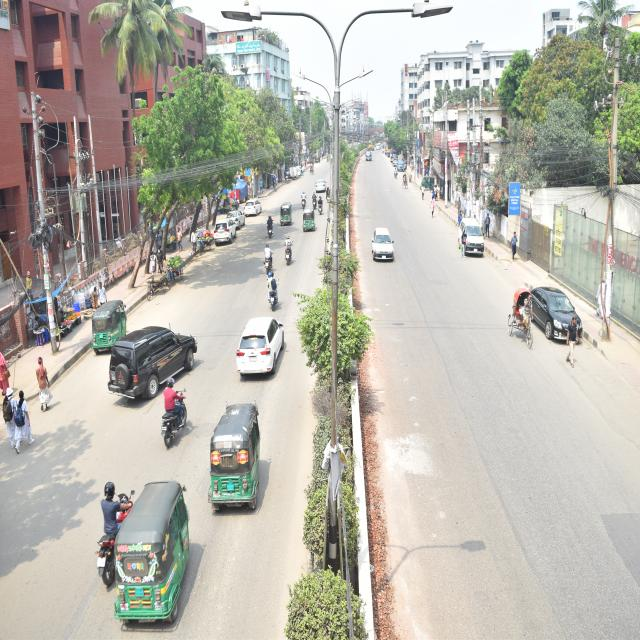car: (100, 310, 204, 401), (224, 294, 298, 384), (528, 268, 588, 373), (366, 209, 408, 297), (450, 195, 497, 272), (208, 216, 241, 255), (216, 190, 244, 226), (237, 190, 266, 219), (310, 168, 328, 196)
motorbike: (81, 448, 147, 607), (145, 372, 188, 456), (258, 266, 286, 316), (278, 232, 296, 280), (265, 212, 281, 251), (260, 244, 275, 282), (296, 191, 310, 223), (322, 184, 331, 210), (312, 189, 319, 221), (316, 191, 324, 218)
